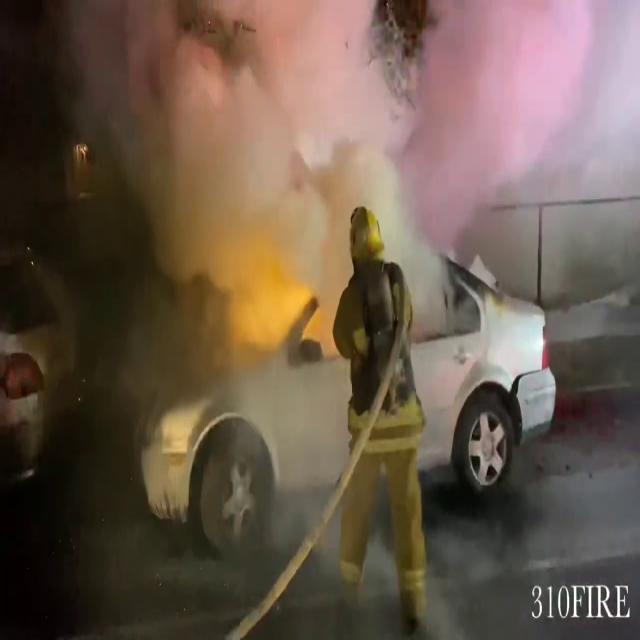Smoke: (65, 0, 634, 405)
